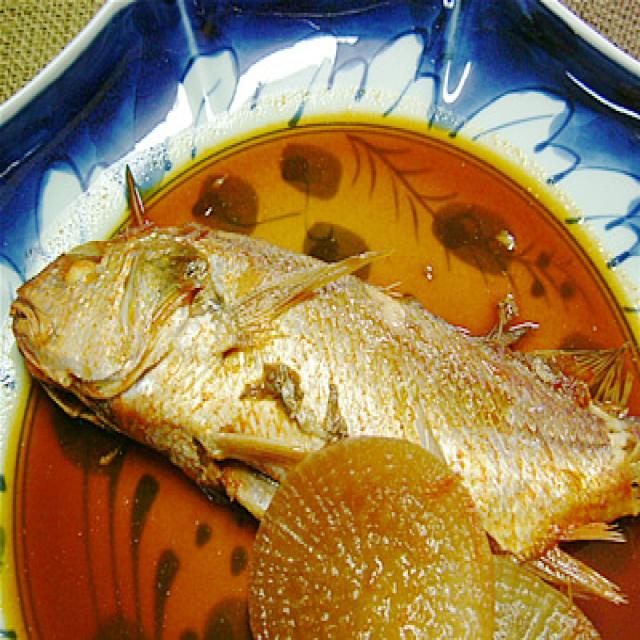熟制海鲜: (3, 166, 640, 614)
